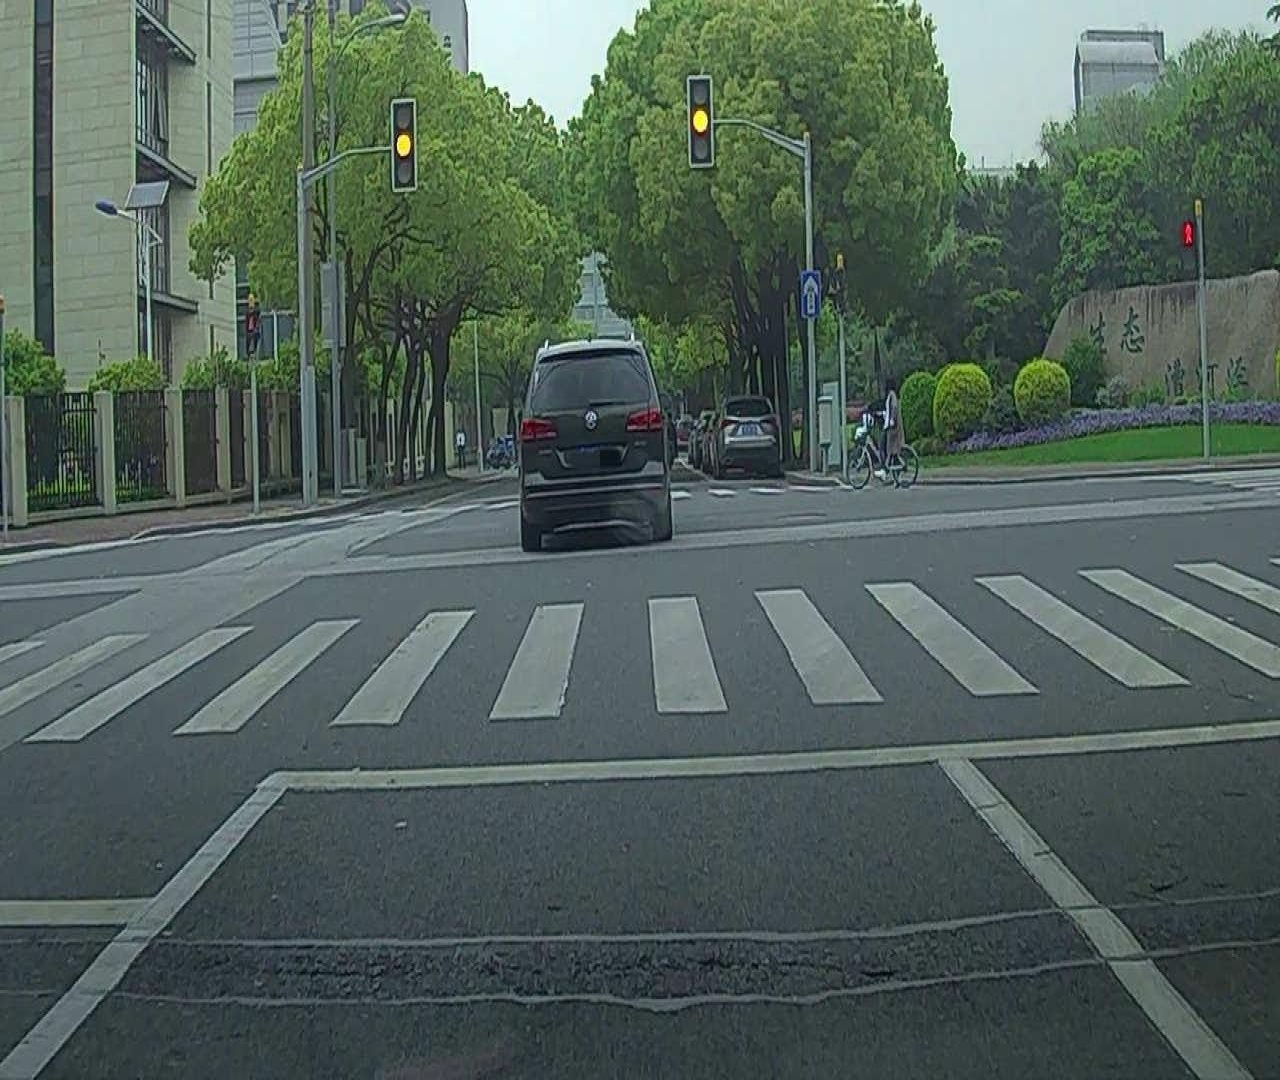yellow: (393, 99, 415, 193), (690, 78, 713, 162)
